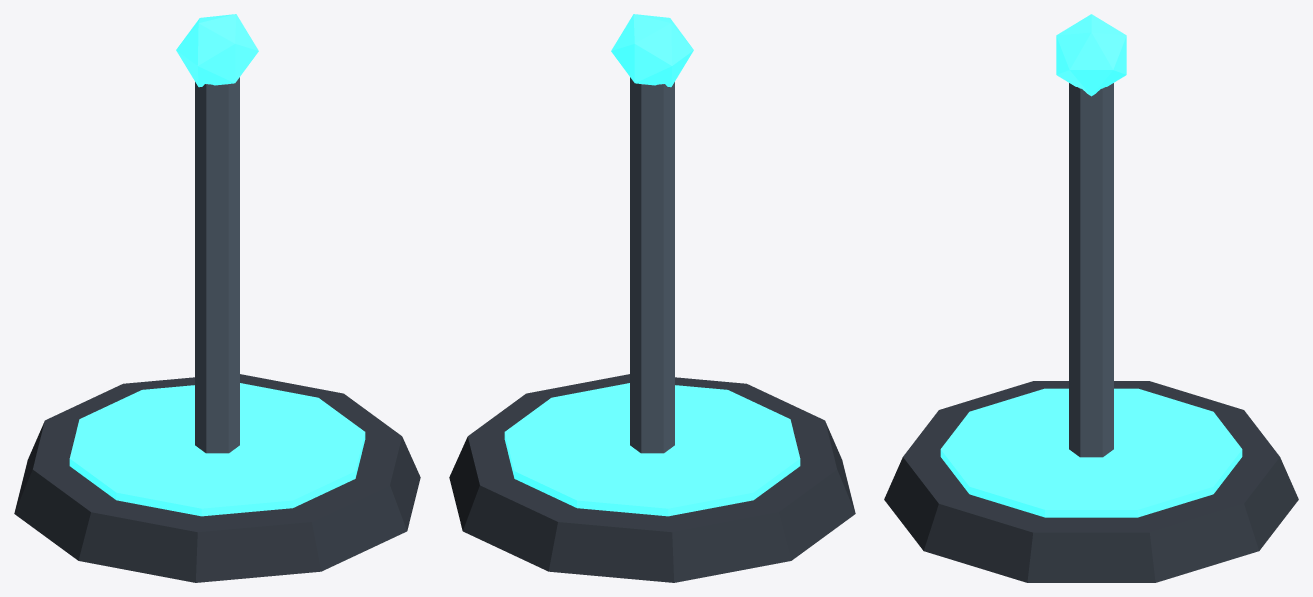
Rendered from gameplay_checkpoint.glb.
3 renders of one model, left to right at view 1: azimuth 30°, elevation 25°; view 2: azimuth 150°, elevation 25°; view 3: azimuth 270°, elevation 25°, orthographic.
Visible parts, largest first — view 1: gameplay_checkpoint_steelDark, gameplay_checkpoint_glow, gameplay_checkpoint_steel; view 2: gameplay_checkpoint_steelDark, gameplay_checkpoint_glow, gameplay_checkpoint_steel; view 3: gameplay_checkpoint_steelDark, gameplay_checkpoint_glow, gameplay_checkpoint_steel.
Boxes of the visible parts, x1,y1,x2,y2 form: gameplay_checkpoint_steelDark: [14, 374, 420, 582]; gameplay_checkpoint_glow: [69, 14, 365, 516]; gameplay_checkpoint_steel: [195, 77, 239, 453]; gameplay_checkpoint_steelDark: [449, 374, 855, 582]; gameplay_checkpoint_glow: [504, 14, 800, 516]; gameplay_checkpoint_steel: [630, 77, 674, 453]; gameplay_checkpoint_steelDark: [884, 381, 1298, 582]; gameplay_checkpoint_glow: [940, 14, 1242, 517]; gameplay_checkpoint_steel: [1069, 83, 1113, 457].
Bounding box in the file's own units: 2.09 × 2.79 × 2.2.
